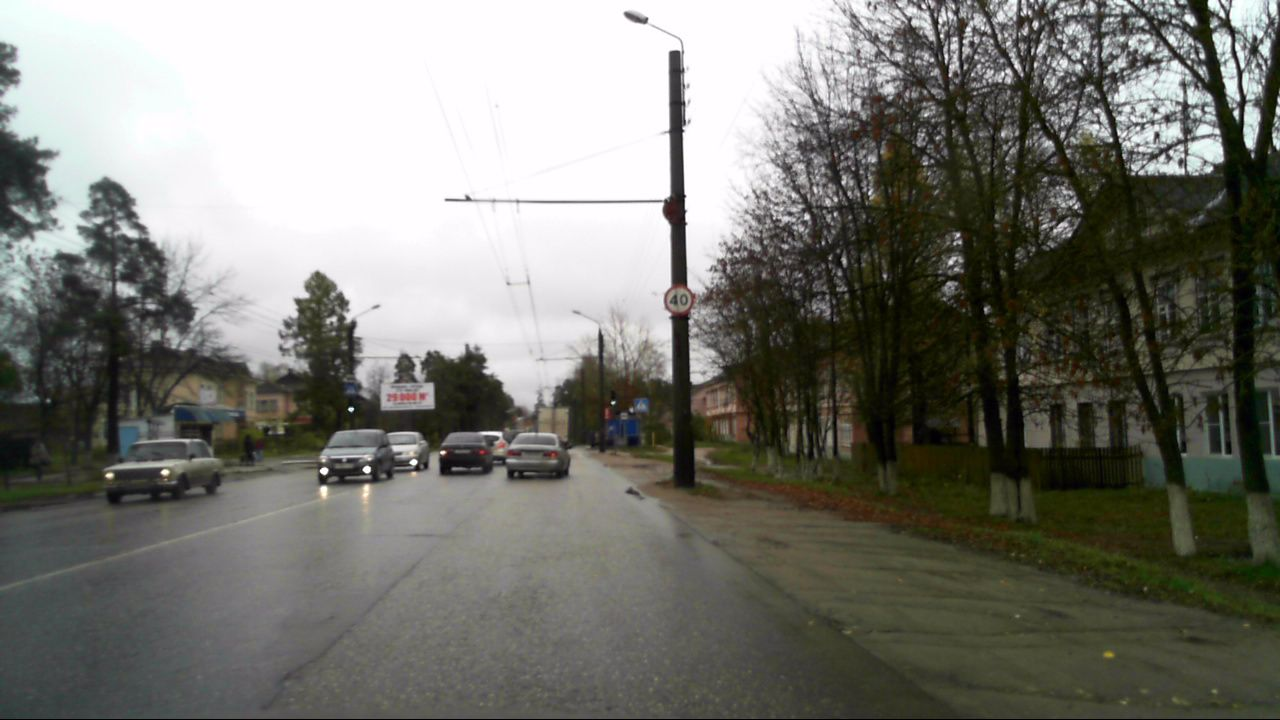speed_warning_40: (662, 284, 694, 317)
